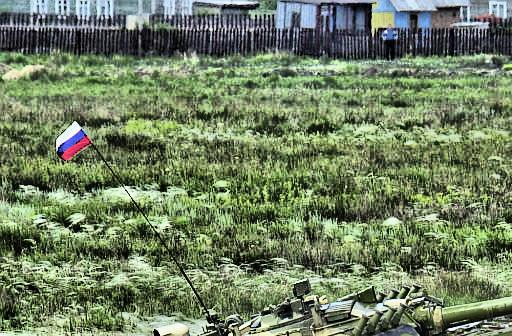tanks: (201, 283, 512, 336), (155, 325, 194, 336)
